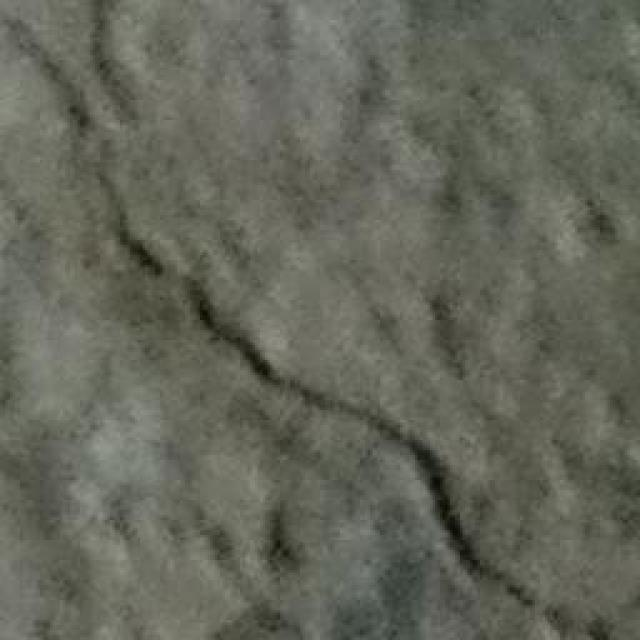Diagonal: (12, 0, 596, 640)
